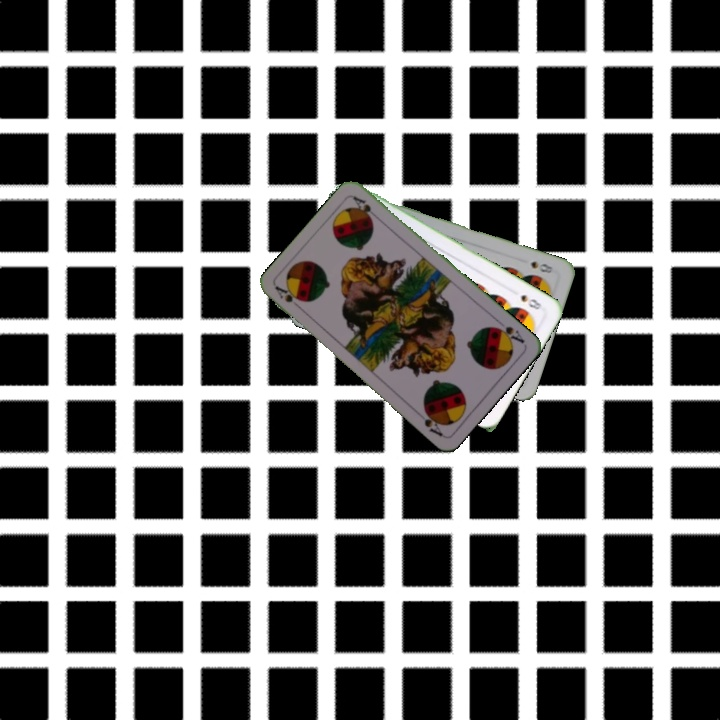S8: (517, 290, 545, 312), (527, 257, 556, 276)
SA: (489, 316, 527, 347), (271, 282, 305, 313)
